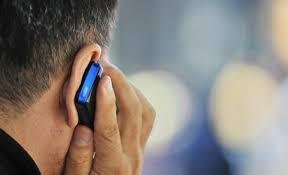phone: (78, 61, 119, 141)
